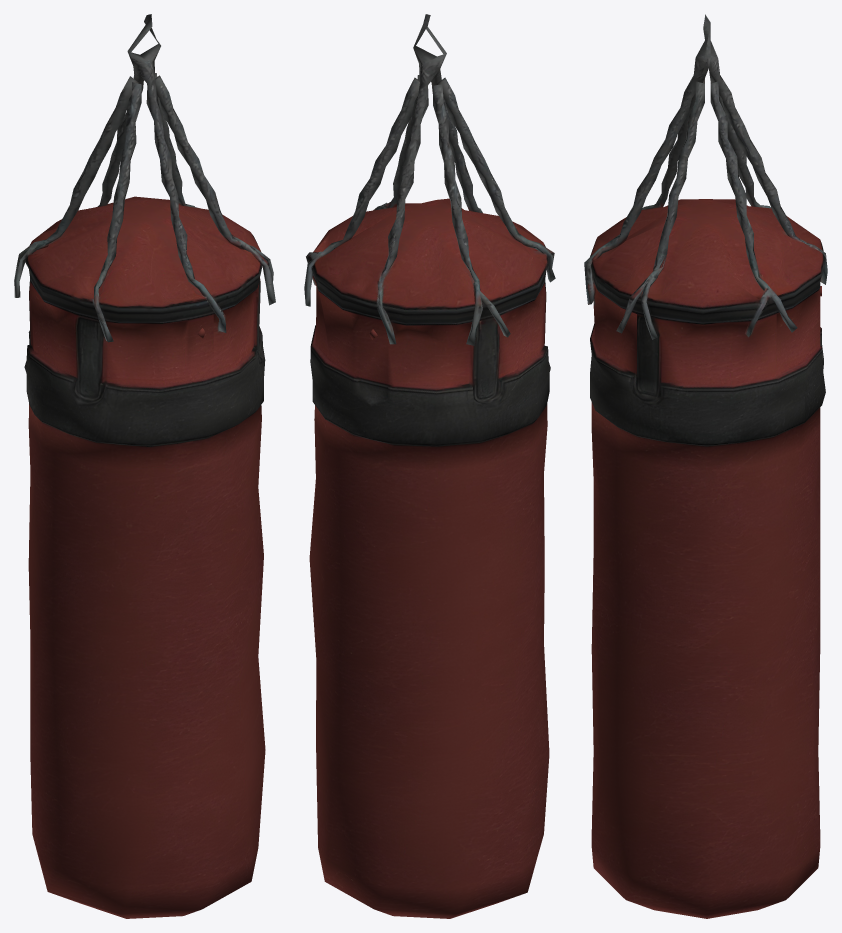
Rendered from gym_hanging_bag.glb.
3 views of the same model, side by side, from view 1: azimuth 30°, elevation 25°; view 2: azimuth 150°, elevation 25°; view 3: azimuth 270°, elevation 25° (orthographic).
Visible parts, largest first — view 1: tripo_node_fd0edc1f-9a82-4a67-a55d-b4455fcb2970; view 2: tripo_node_fd0edc1f-9a82-4a67-a55d-b4455fcb2970; view 3: tripo_node_fd0edc1f-9a82-4a67-a55d-b4455fcb2970.
Part boxes in pixels (x1=…): tripo_node_fd0edc1f-9a82-4a67-a55d-b4455fcb2970: x1=14, y1=14, x2=275, y2=918; tripo_node_fd0edc1f-9a82-4a67-a55d-b4455fcb2970: x1=304, y1=14, x2=555, y2=918; tripo_node_fd0edc1f-9a82-4a67-a55d-b4455fcb2970: x1=584, y1=14, x2=827, y2=918.
Bounding box in the file's own units: 0.2564 × 1 × 0.2524.
1 material, 1 textured.
